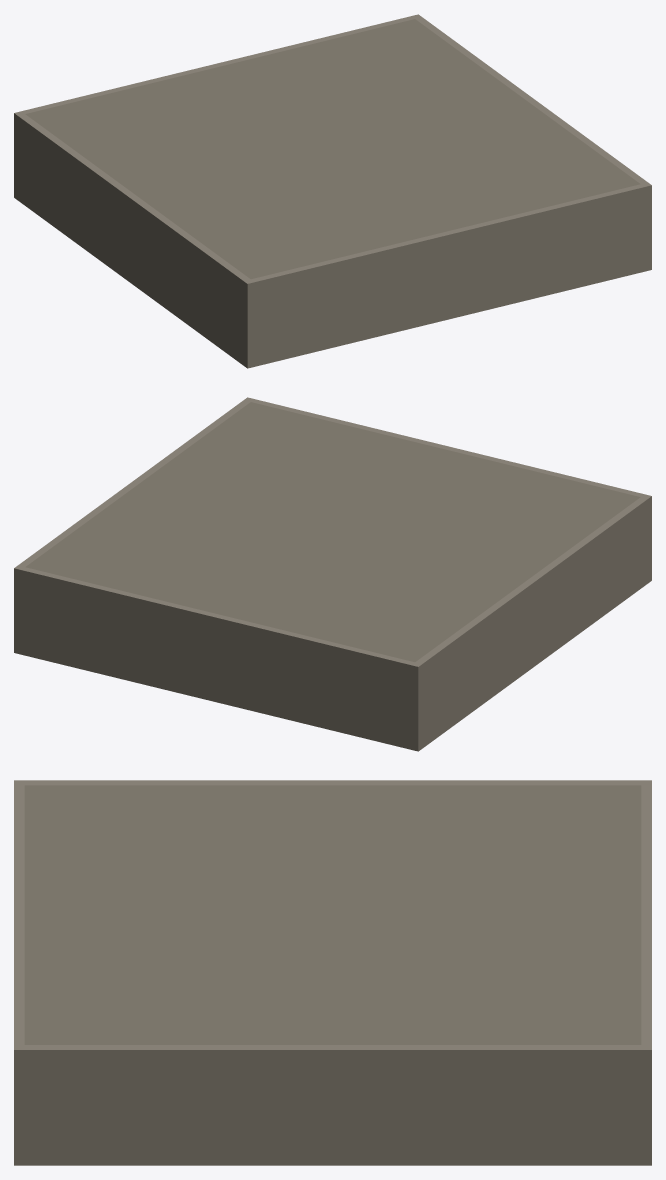
Rendered from ConcrateSlabs_A_4_1.fbx.
The picture shows the model from 3 angles, top to bottom: view 1: azimuth 30°, elevation 25°; view 2: azimuth 150°, elevation 25°; view 3: azimuth 270°, elevation 25°; orthographic projection. The views are drawn at different scales.
Visible parts, largest first — view 1: ConcrateSlabs_A_4_1; view 2: ConcrateSlabs_A_4_1; view 3: ConcrateSlabs_A_4_1.
Part boxes in pixels (<box>): ConcrateSlabs_A_4_1: <box>14,14,651,368</box>; ConcrateSlabs_A_4_1: <box>14,397,651,751</box>; ConcrateSlabs_A_4_1: <box>14,780,651,1165</box>.
Size of the model in its own units: 200 by 40 by 200.
